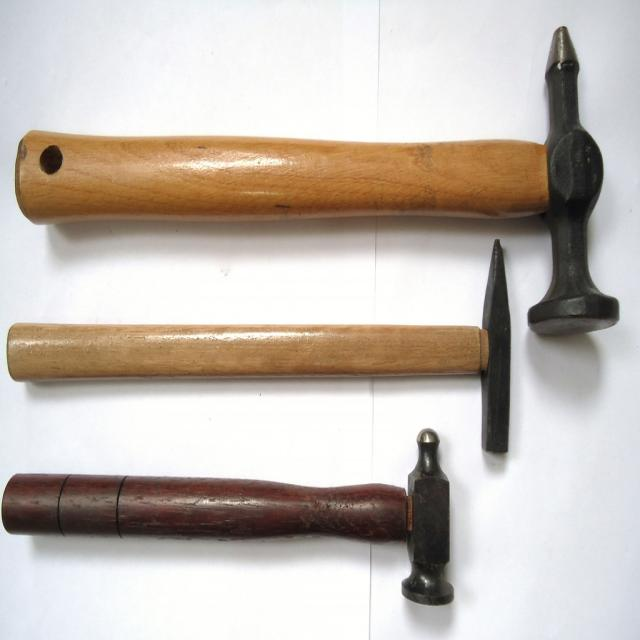hammer: (18, 25, 626, 332), (4, 237, 510, 454), (0, 430, 452, 601)
